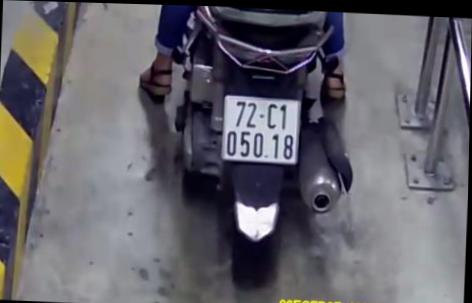LP: (221, 95, 301, 162)
